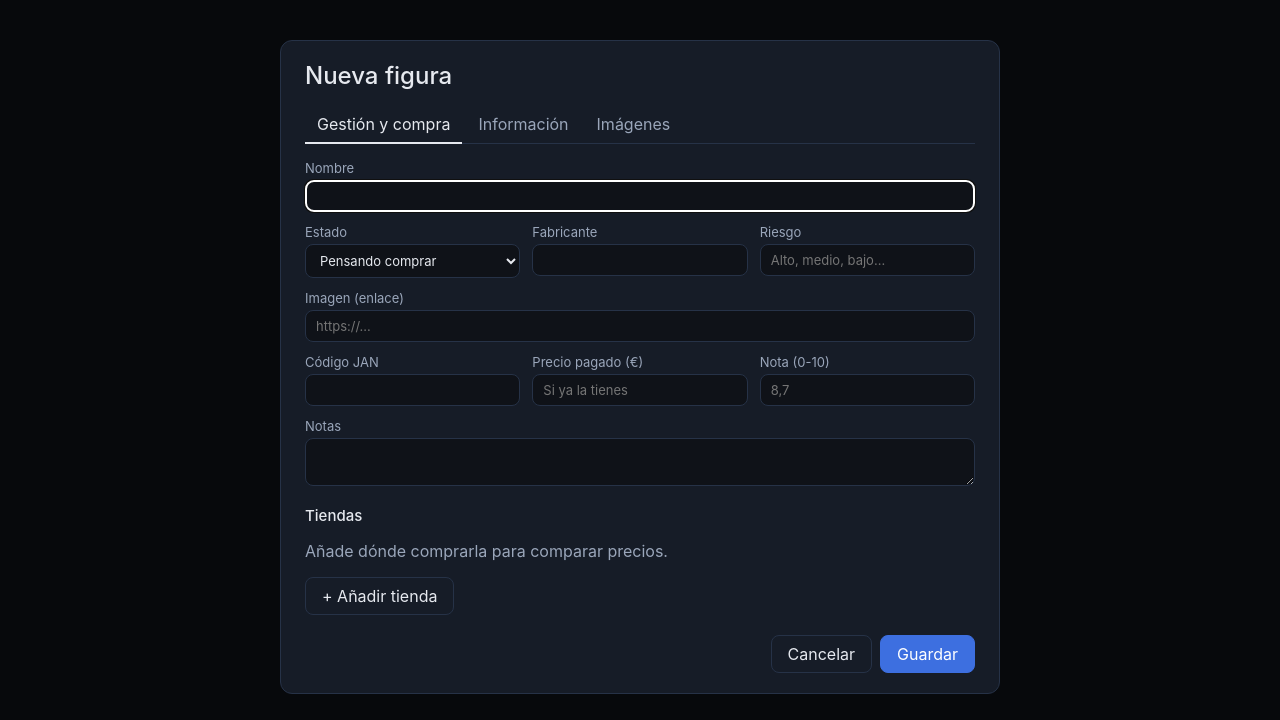
Scenario: FormularioFigura › no deja guardar sin nombre
Step 1. Click the button "Guardar" → [928, 654], box x1=880 y1=635 x2=975 y2=673
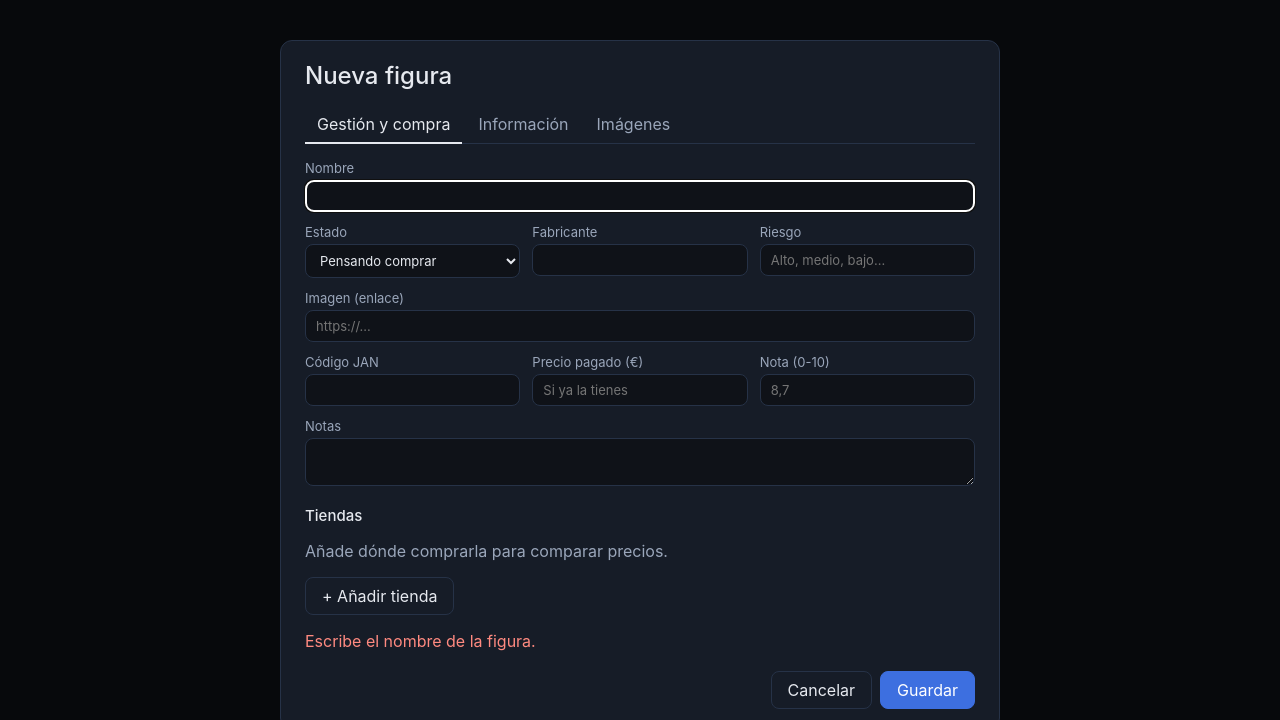
expect the message reads "Escribe el nombre de la figura.": met, box x1=305 y1=631 x2=536 y2=651
